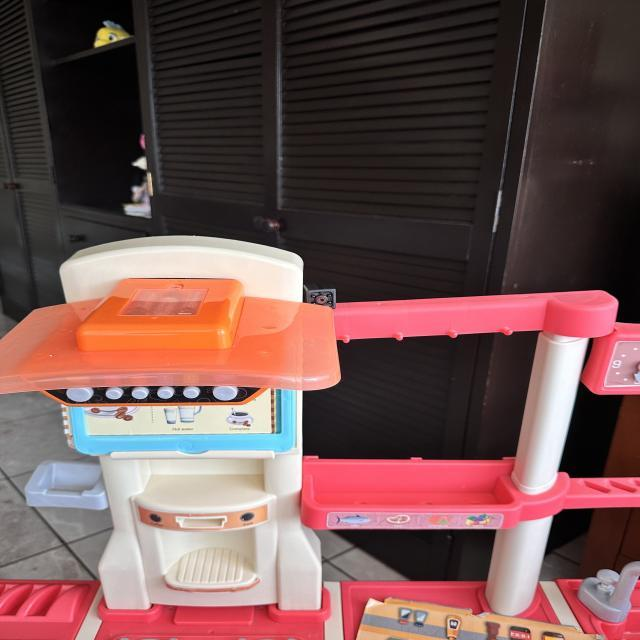hidden camera: (314, 296, 329, 305)
